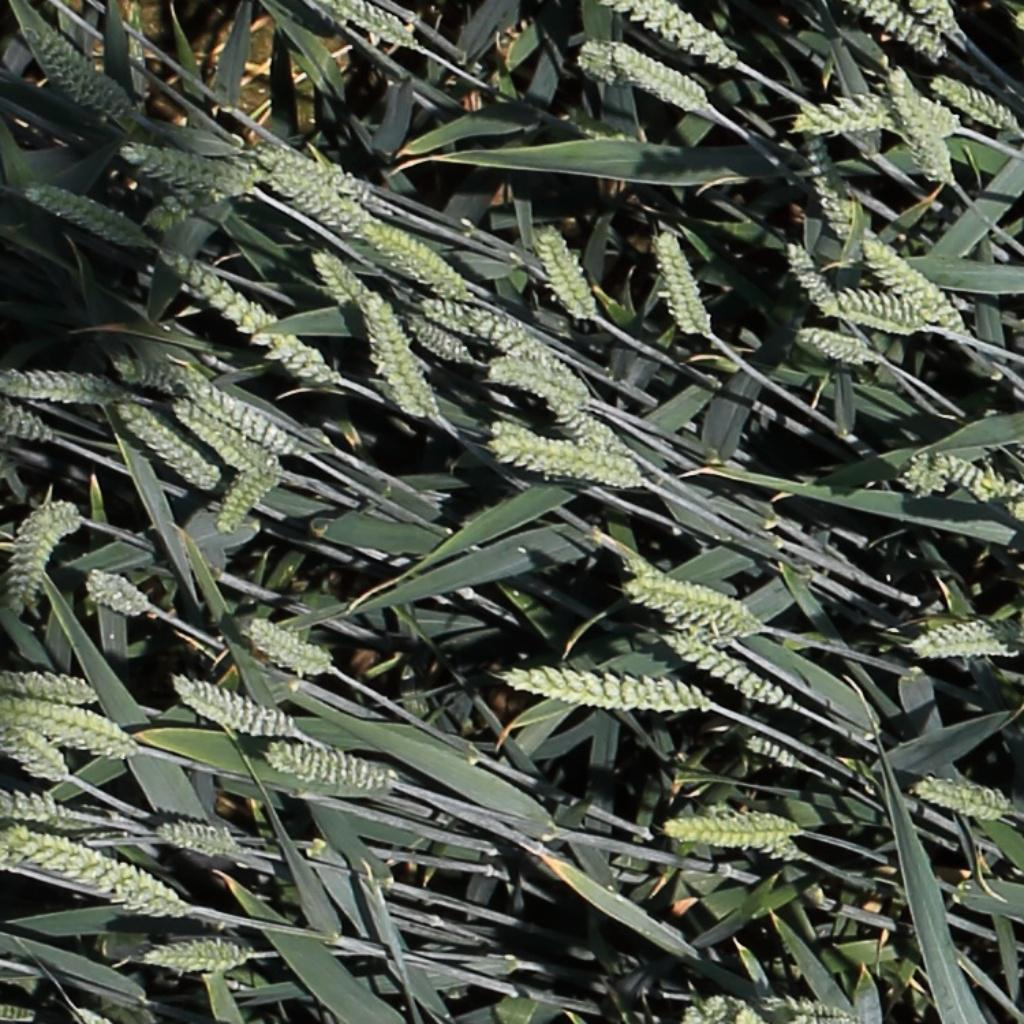0-0: (165, 251, 334, 379), (8, 831, 189, 921), (421, 299, 582, 385), (486, 419, 657, 495), (503, 658, 708, 716), (618, 563, 775, 635), (860, 233, 968, 331), (174, 370, 299, 454), (361, 290, 436, 427), (664, 634, 789, 708), (27, 25, 126, 116), (363, 221, 479, 298), (884, 61, 954, 187), (173, 673, 299, 743), (111, 401, 212, 488), (618, 0, 738, 68), (824, 279, 951, 341), (23, 181, 146, 245), (10, 503, 76, 610), (173, 400, 264, 475), (4, 360, 148, 407), (120, 139, 247, 192), (652, 225, 711, 339), (533, 218, 595, 326), (489, 350, 608, 405), (0, 705, 132, 752), (614, 46, 709, 111), (662, 805, 812, 846), (647, 592, 748, 652), (265, 739, 383, 790), (253, 144, 368, 196), (800, 126, 851, 241), (273, 173, 367, 234), (546, 397, 637, 459), (243, 613, 329, 675), (854, 1, 943, 60), (210, 464, 278, 539), (780, 234, 839, 318), (905, 617, 1005, 665), (933, 75, 1018, 131), (799, 90, 900, 136), (913, 772, 1010, 819), (140, 936, 259, 974), (5, 667, 108, 710), (327, 0, 416, 49), (421, 275, 498, 328), (946, 451, 1022, 502), (904, 448, 966, 507), (4, 722, 62, 783), (563, 31, 626, 86), (158, 812, 236, 856), (81, 569, 146, 618), (405, 312, 468, 361), (107, 357, 187, 394), (2, 786, 67, 831), (764, 994, 859, 1024), (727, 826, 816, 858), (795, 327, 873, 361), (699, 991, 766, 1024), (0, 401, 54, 441), (742, 731, 802, 766), (921, 1, 961, 39), (0, 1003, 35, 1022), (1007, 502, 1024, 517)
